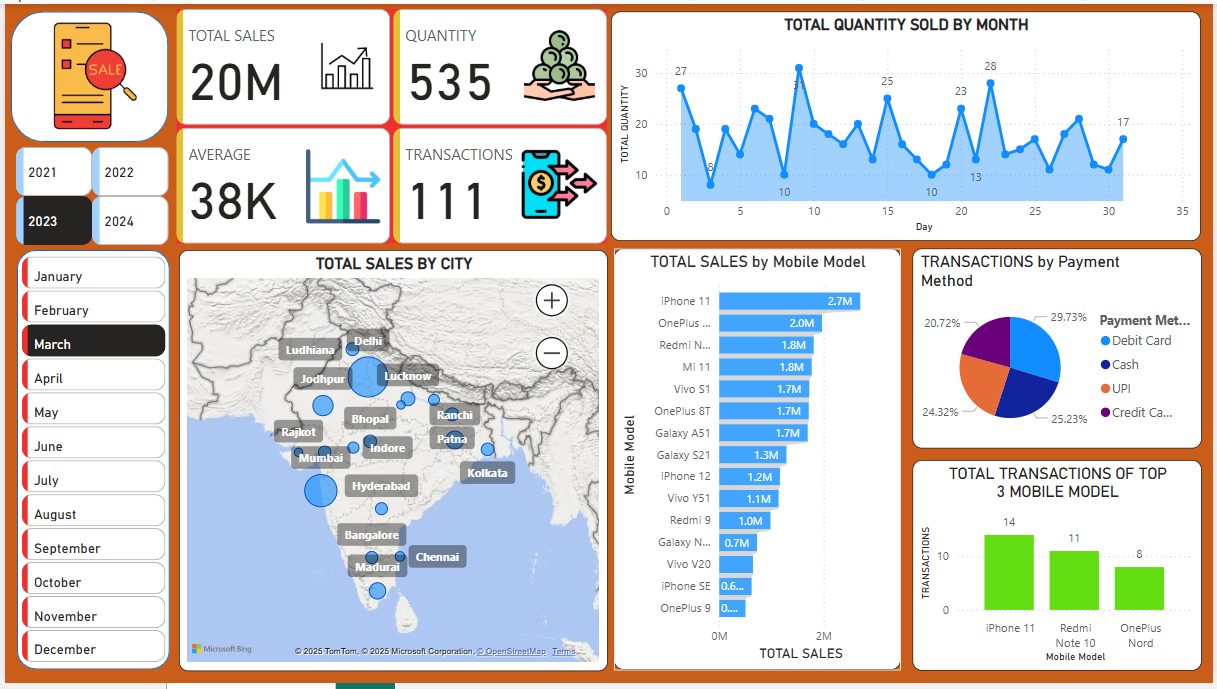

The page's visual inventory and layout, read from the dashboard file:
{"tool":"powerbi","page":{"name":"Page 1","canvas":[1280,720],"ordinal":0},"visuals":[{"type":"shape","box":[12.1,260.3,162.1,444.8],"z":0},{"type":"advancedSlicerVisual","fields":{"Values":["Sales data.Date.Variation.Date Hierarchy.Month"]},"box":[12.1,262.1,162.1,443.1],"z":1000},{"type":"cardVisual","fields":{"Data":["Sales data.TOTAL SALES","Sales data.TOTAL QUANTITY","Sales data.AVERAGE","Sales data.TRANSACTIONS"]},"box":[176,0,468,260],"z":2000},{"type":"map","title":"TOTAL SALES BY CITY      ","fields":{"Category":["Sales data.City"],"Size":["Sales data.TOTAL SALES"]},"box":[184,260,456,446],"z":3000},{"type":"lineChart","title":"TOTAL QUANTITY SOLD BY MONTH","fields":{"Y":["Sales data.TOTAL QUANTITY"],"Category":["Sales data.Date.Variation.Date Hierarchy.Month","Sales data.Date.Variation.Date Hierarchy.Day"]},"box":[643.3,8.3,625,243.3],"z":4000},{"type":"clusteredColumnChart","title":"TOTAL TRANSACTIONS OF TOP 3 MOBILE MODEL","fields":{"Category":["Sales data.Mobile Model"],"Y":["Sales data.TRANSACTIONS"]},"box":[961.7,483.3,306.7,223.3],"z":5000},{"type":"pieChart","fields":{"Category":["Sales data.Payment Method"],"Y":["Sales data.TRANSACTIONS"]},"box":[961.7,260,306.7,211.7],"z":6000},{"type":"barChart","fields":{"Category":["Sales data.Mobile Model"],"Y":["Sales data.TOTAL SALES"]},"box":[645,261.7,305,443.3],"z":7000},{"type":"advancedSlicerVisual","fields":{"Values":["Sales data.Date.Variation.Date Hierarchy.Year"]},"box":[6.7,146.7,173.3,115],"z":8000},{"type":"shape","box":[6.7,8.3,166.7,138.3],"z":9000},{"type":"image","box":[15,8.3,158.3,135],"z":9001}]}

Visuals, with their boxes in screenshot pixels (x1, y1, x2, y2), scaled from the page's 1280x720 canvas onto the 1217x689 screenshot:
shape: {"x1": 12, "y1": 249, "x2": 166, "y2": 675}
advancedSlicerVisual - Sales data.Date.Variation.Date Hierarchy.Month: {"x1": 12, "y1": 251, "x2": 166, "y2": 675}
cardVisual - Sales data.TOTAL SALES x Sales data.TOTAL QUANTITY: {"x1": 167, "y1": 0, "x2": 612, "y2": 249}
"TOTAL SALES BY CITY      " map: {"x1": 175, "y1": 249, "x2": 608, "y2": 676}
"TOTAL QUANTITY SOLD BY MONTH" lineChart: {"x1": 612, "y1": 8, "x2": 1206, "y2": 241}
"TOTAL TRANSACTIONS OF TOP 3 MOBILE MODEL" clusteredColumnChart: {"x1": 914, "y1": 462, "x2": 1206, "y2": 676}
pieChart - Sales data.Payment Method x Sales data.TRANSACTIONS: {"x1": 914, "y1": 249, "x2": 1206, "y2": 451}
barChart - Sales data.Mobile Model x Sales data.TOTAL SALES: {"x1": 613, "y1": 250, "x2": 903, "y2": 675}
advancedSlicerVisual - Sales data.Date.Variation.Date Hierarchy.Year: {"x1": 6, "y1": 140, "x2": 171, "y2": 250}
shape: {"x1": 6, "y1": 8, "x2": 165, "y2": 140}
image: {"x1": 14, "y1": 8, "x2": 165, "y2": 137}
